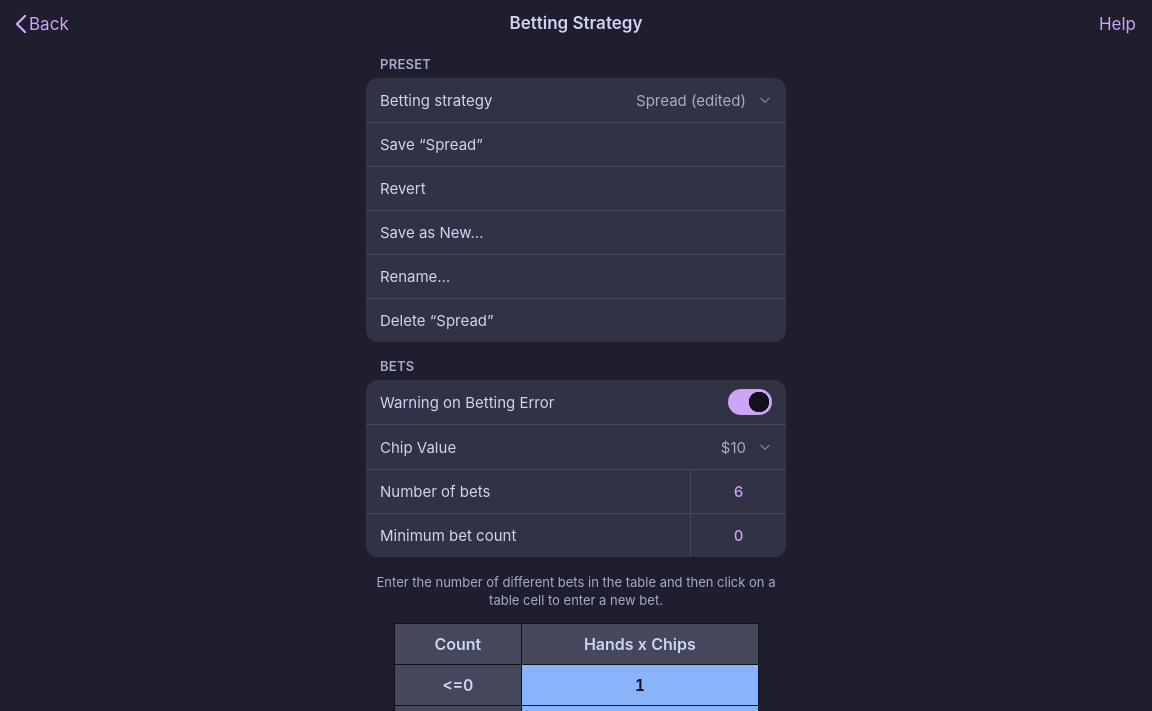
it: the preset picker › reverts an edit to what was saved
What coordinates should you click on to do the following:
click the button "Revert"
I would click on:
 (403, 188)
Its box is left=366, top=166, right=786, bottom=210.
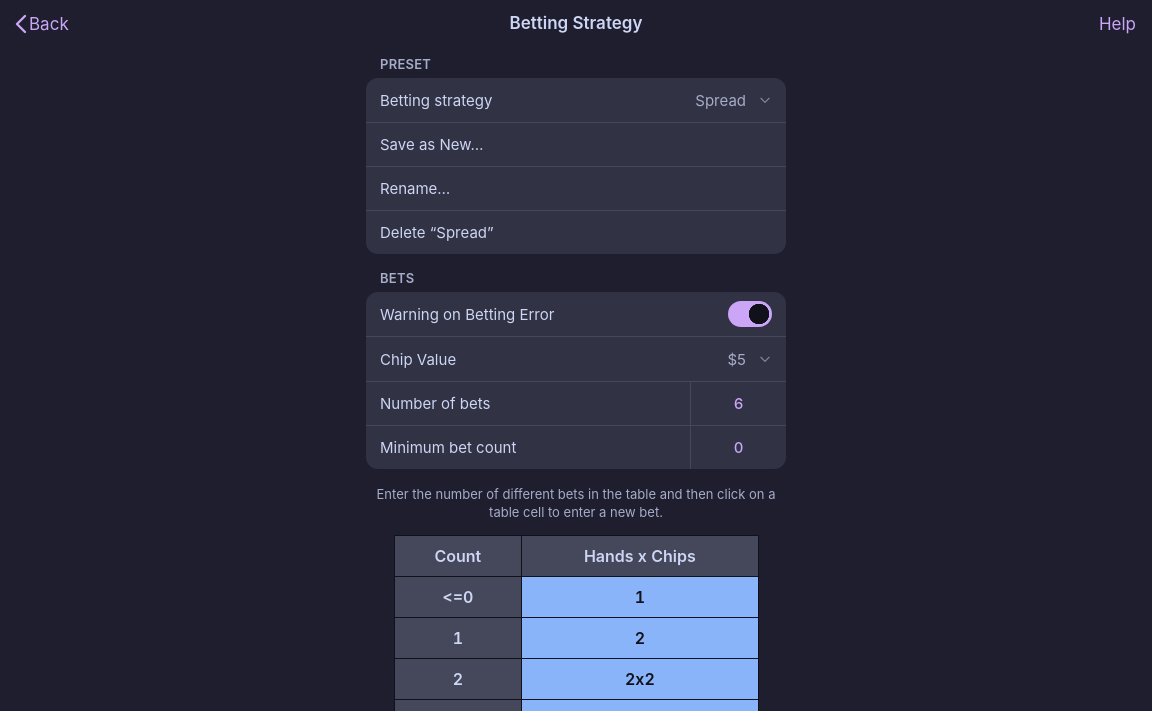
Expected: the dropdown named "Betting strategy" shows "Spread", left=366, top=78, right=786, bottom=122
